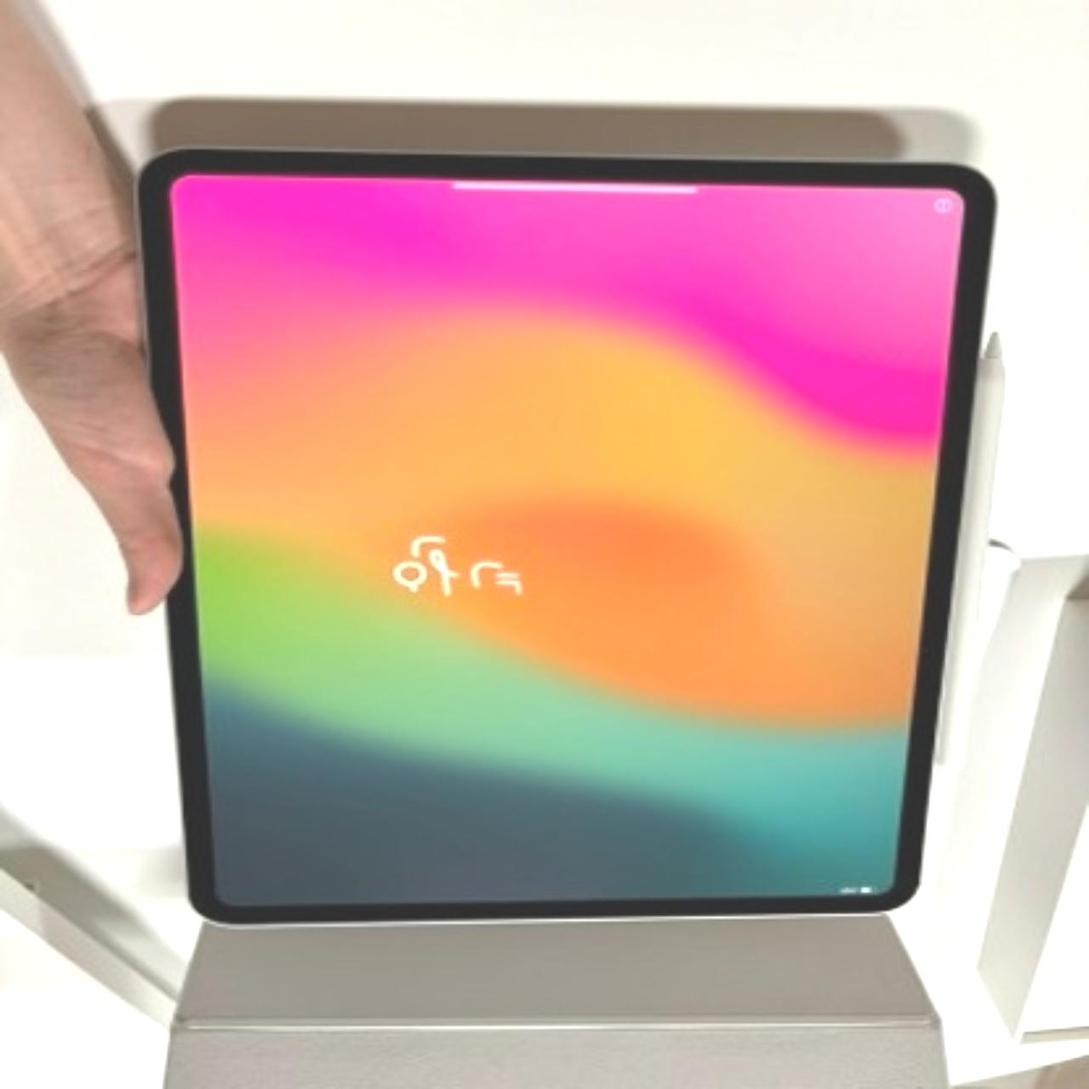Tablet_PC: (128, 118, 1013, 927)
